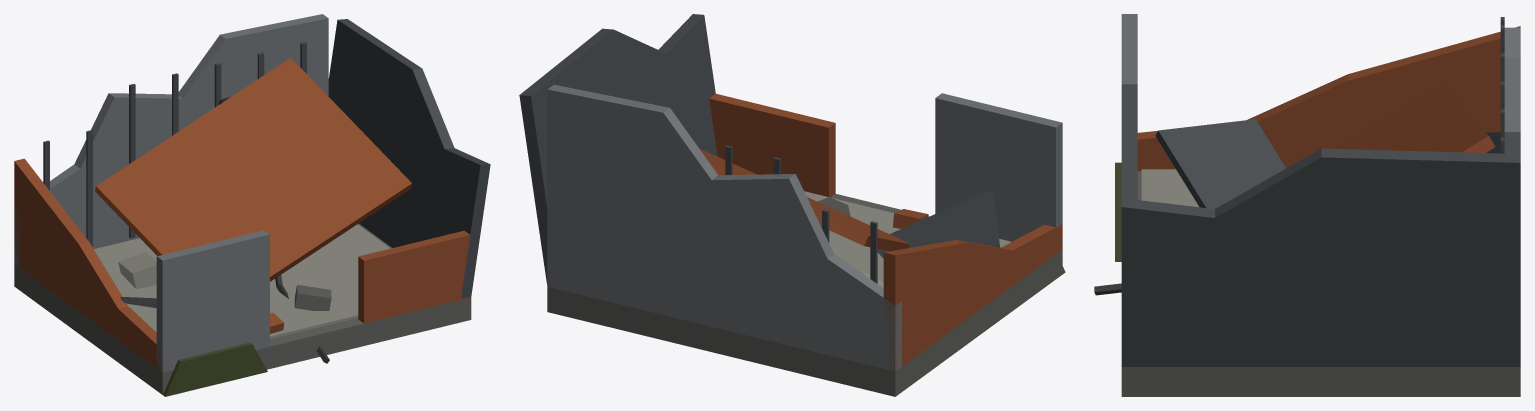
Rendered from relay_shed_collapsed.glb.
3 views of the same model, side by side, from view 1: azimuth 30°, elevation 25°; view 2: azimuth 150°, elevation 25°; view 3: azimuth 270°, elevation 25° (orthographic). The views are drawn at different scales.
Visible parts, largest first — view 1: relay_shed_collapsed_mesh; view 2: relay_shed_collapsed_mesh; view 3: relay_shed_collapsed_mesh.
Part boxes in pixels (bbox=[...]): relay_shed_collapsed_mesh: bbox=[14, 14, 490, 396]; relay_shed_collapsed_mesh: bbox=[519, 14, 1065, 396]; relay_shed_collapsed_mesh: bbox=[1094, 14, 1520, 396].
Size of the model in its own units: 3.9 by 2.25 by 3.21.
